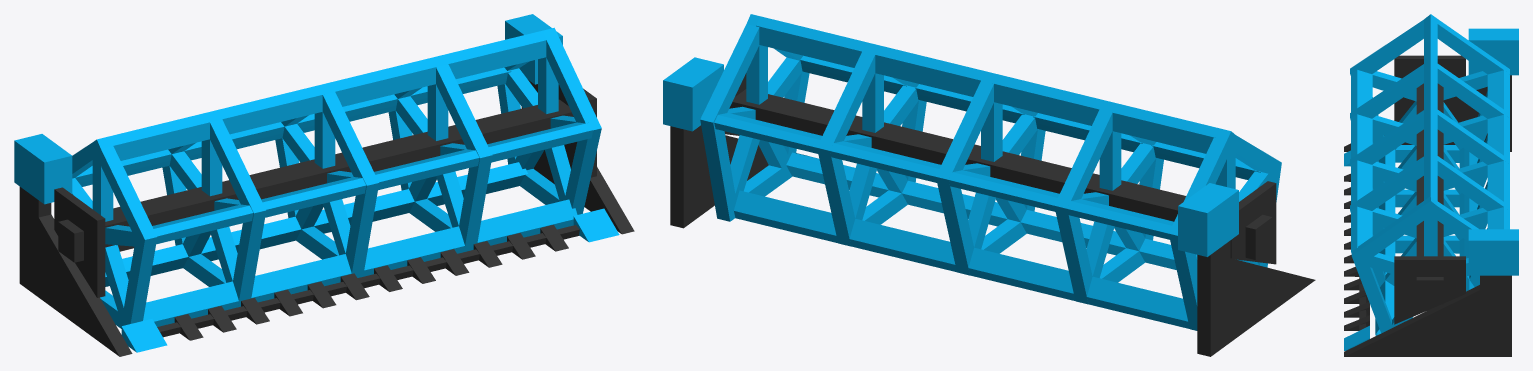
File: Cultivator_1.FBX
3 views of the same model, side by side, from view 1: azimuth 30°, elevation 25°; view 2: azimuth 150°, elevation 25°; view 3: azimuth 270°, elevation 25° (orthographic). The views are drawn at different scales.
Visible parts, largest first — view 1: Cultivator_1; view 2: Cultivator_1; view 3: Cultivator_1.
Boxes of the visible parts, x1,y1,x2,y2 form: Cultivator_1: (14, 14, 634, 356); Cultivator_1: (663, 14, 1315, 356); Cultivator_1: (1344, 14, 1518, 356).
Size of the model in its own units: 3.34 by 1.07 by 1.16.
Materials: 1 (1 with a texture image).
